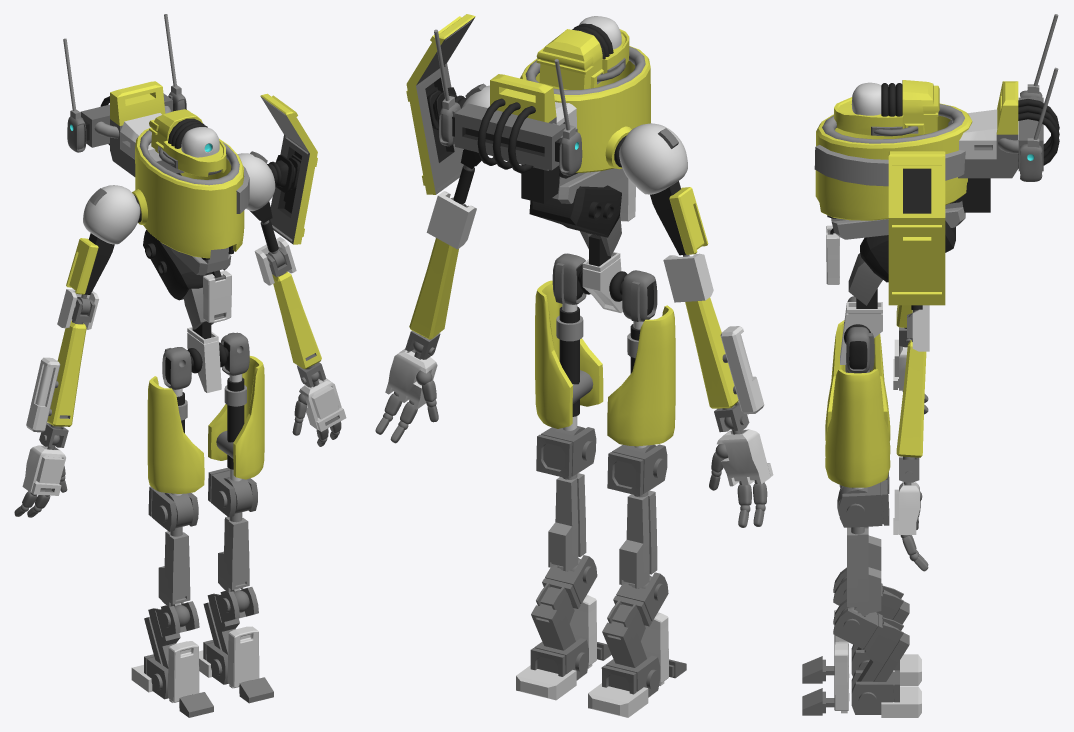
File: YellowRobotTestExport.fbx
3 views of the same model, side by side, from view 1: azimuth 30°, elevation 25°; view 2: azimuth 150°, elevation 25°; view 3: azimuth 270°, elevation 25° (orthographic). The views are drawn at different scales.
Parts seen in each view (by area): view 1: pasted__pTorus17, polySurface51, pasted__pCube22, pasted__pCube1, polySurface52, pasted__pCube10, pCube63, pasted__pCube11, pasted__polySurface25, pasted__polySurface26, polySurface93, polySurface94 (+29 smaller); view 2: polySurface51, pasted__pTorus17, polySurface52, pasted__pCube22, pasted__pCube1, pCube52, pasted__pCube10, polySurface74, polySurface73, pasted__pCube11, pasted__polySurface26, polySurface80 (+27 smaller); view 3: pasted__pTorus17, pasted__pCube22, polySurface52, pasted__pCube1, polySurface74, polySurface80, pasted__polySurface25, pCube63, polySurface93, pasted__pCube11, polySurface60, pCube64 (+19 smaller).
Boxes of the visible parts, x1,y1,x2,y2 form: pasted__pTorus17: (135,128,249,258); polySurface51: (147,376,204,493); pasted__pCube22: (260,93,317,244); pasted__pCube1: (149,109,226,176); polySurface52: (208,356,264,479); pasted__pCube10: (83,185,140,244); pCube63: (110,81,184,176); pasted__pCube11: (143,230,213,329); pasted__polySurface25: (272,271,321,369); pasted__polySurface26: (47,320,86,426); polySurface93: (218,512,249,592); polySurface94: (158,526,190,606); polySurface51: (607,305,675,446); pasted__pTorus17: (520,46,650,172); polySurface52: (535,280,603,428); pasted__pCube22: (406,14,475,194); pasted__pCube1: (536,16,629,89); pCube52: (452,103,565,170); pasted__pCube10: (619,123,687,194); polySurface74: (531,555,597,650); polySurface73: (602,572,668,667); pasted__pCube11: (529,185,621,256); pasted__polySurface26: (685,297,738,408); polySurface80: (516,638,588,700); pasted__pTorus17: (814,103,972,220); pasted__pCube22: (888,151,945,305); polySurface52: (825,369,890,487); pasted__pCube1: (834,80,939,136); polySurface74: (833,599,909,689); polySurface80: (851,670,921,717); pasted__polySurface25: (896,340,926,457); pCube63: (958,81,1018,178); polySurface93: (847,527,881,616); pasted__pCube11: (848,220,955,305); polySurface60: (839,480,889,527); pCube64: (948,109,997,159).
Bounding box in the file's own units: 6.62 × 11.74 × 4.2.
